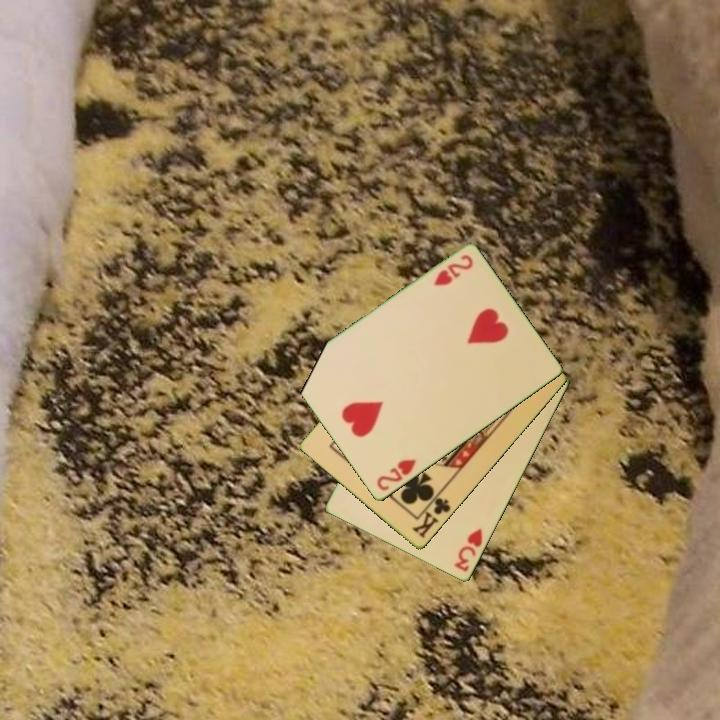2h: (373, 456, 419, 494), (430, 251, 476, 289)
3h: (451, 525, 486, 575)
Kc: (408, 489, 454, 542)
